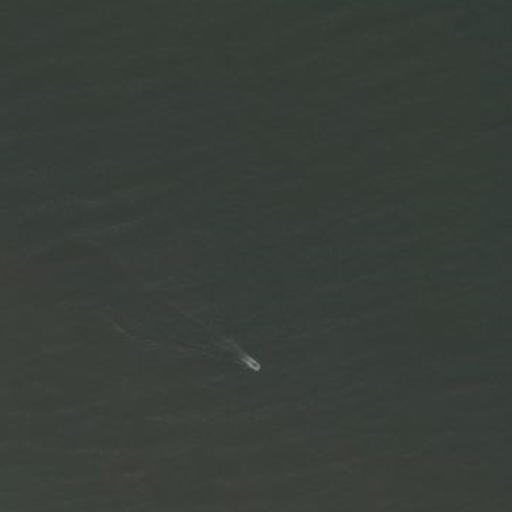ship: (239, 351, 263, 374)
